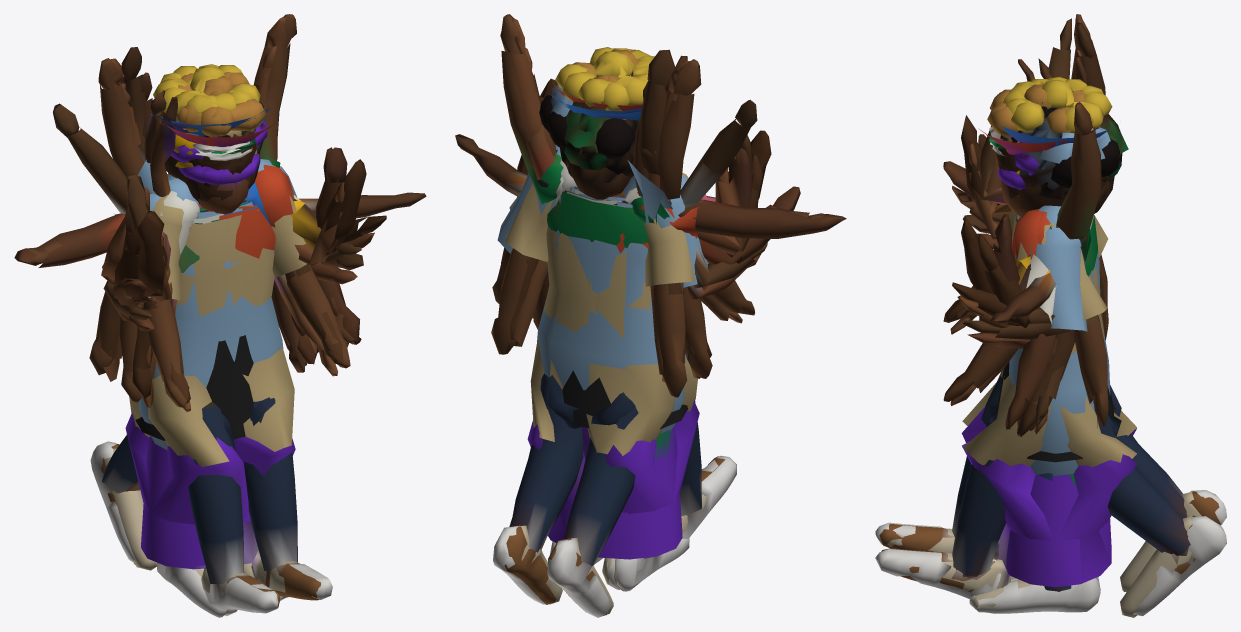
File: crowd.glb
3 views of the same model, side by side, from view 1: azimuth 30°, elevation 25°; view 2: azimuth 150°, elevation 25°; view 3: azimuth 270°, elevation 25° (orthographic).
Visible parts, largest first — view 1: spec_q_walk_1, spec_q_walk_0, spec_t_walk_1, spec_r_walk_0, spec_r_walk_1, spec_t_walk_0, spec_m_talk_1, spec_a_watch_1, spec_e_watch_0, spec_j_watch_1, spec_e_watch_1, spec_d_watch_1 (+20 smaller); view 2: spec_a_watch_1, spec_q_walk_0, spec_q_walk_1, spec_t_walk_1, spec_j_watch_1, spec_e_watch_0, spec_t_walk_0, spec_j_watch_0, spec_r_walk_1, spec_c_watch_1, spec_e_watch_1, spec_m_talk_1 (+16 smaller); view 3: spec_q_walk_1, spec_q_walk_0, spec_r_walk_0, spec_j_watch_1, spec_r_walk_1, spec_e_watch_0, spec_a_watch_1, spec_t_walk_1, spec_e_watch_1, spec_j_watch_0, spec_t_walk_0, spec_a_watch_0 (+18 smaller).
Part boxes in pixels (x1=…): spec_q_walk_1: x1=90, y1=129, x2=332, y2=599; spec_q_walk_0: x1=89, y1=132, x2=350, y2=613; spec_t_walk_1: x1=129, y1=129, x2=294, y2=451; spec_r_walk_0: x1=103, y1=72, x2=337, y2=593; spec_r_walk_1: x1=104, y1=72, x2=296, y2=595; spec_t_walk_0: x1=102, y1=130, x2=311, y2=467; spec_m_talk_1: x1=14, y1=141, x2=361, y2=344; spec_a_watch_1: x1=98, y1=14, x2=296, y2=617; spec_e_watch_0: x1=141, y1=65, x2=306, y2=566; spec_j_watch_1: x1=121, y1=47, x2=348, y2=449; spec_e_watch_1: x1=149, y1=64, x2=426, y2=467; spec_d_watch_1: x1=137, y1=159, x2=366, y2=296; spec_a_watch_1: x1=500, y1=14, x2=701, y2=591; spec_q_walk_0: x1=493, y1=282, x2=736, y2=604; spec_q_walk_1: x1=491, y1=248, x2=754, y2=617; spec_t_walk_1: x1=505, y1=173, x2=708, y2=455; spec_j_watch_1: x1=497, y1=49, x2=684, y2=433; spec_e_watch_0: x1=533, y1=48, x2=682, y2=556; spec_t_walk_0: x1=530, y1=186, x2=697, y2=441; spec_j_watch_0: x1=537, y1=74, x2=707, y2=389; spec_r_walk_1: x1=513, y1=49, x2=742, y2=616; spec_c_watch_1: x1=525, y1=47, x2=687, y2=420; spec_e_watch_1: x1=455, y1=47, x2=687, y2=461; spec_m_talk_1: x1=612, y1=196, x2=846, y2=253; spec_q_walk_1: x1=875, y1=130, x2=1226, y2=598; spec_q_walk_0: x1=875, y1=149, x2=1226, y2=616; spec_r_walk_0: x1=887, y1=84, x2=1192, y2=617; spec_j_watch_1: x1=1017, y1=22, x2=1110, y2=436; spec_r_walk_1: x1=942, y1=84, x2=1201, y2=592; spec_e_watch_0: x1=1003, y1=58, x2=1112, y2=589; spec_a_watch_1: x1=1010, y1=14, x2=1128, y2=590; spec_t_walk_1: x1=962, y1=130, x2=1136, y2=466; spec_e_watch_1: x1=990, y1=59, x2=1114, y2=493; spec_j_watch_0: x1=1009, y1=205, x2=1110, y2=475; spec_t_walk_0: x1=962, y1=136, x2=1136, y2=467; spec_a_watch_0: x1=969, y1=135, x2=1100, y2=613.
Size of the model in its own units: 1.6 by 2.12 by 1.23.
